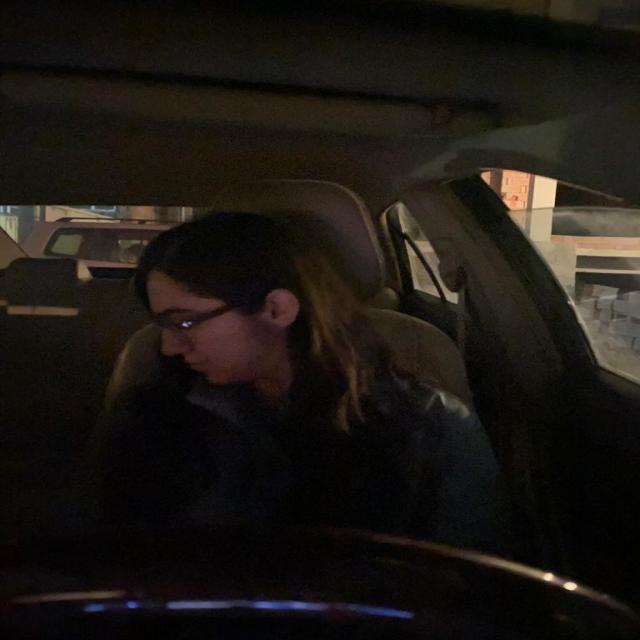LeftRight: (131, 211, 344, 405)
